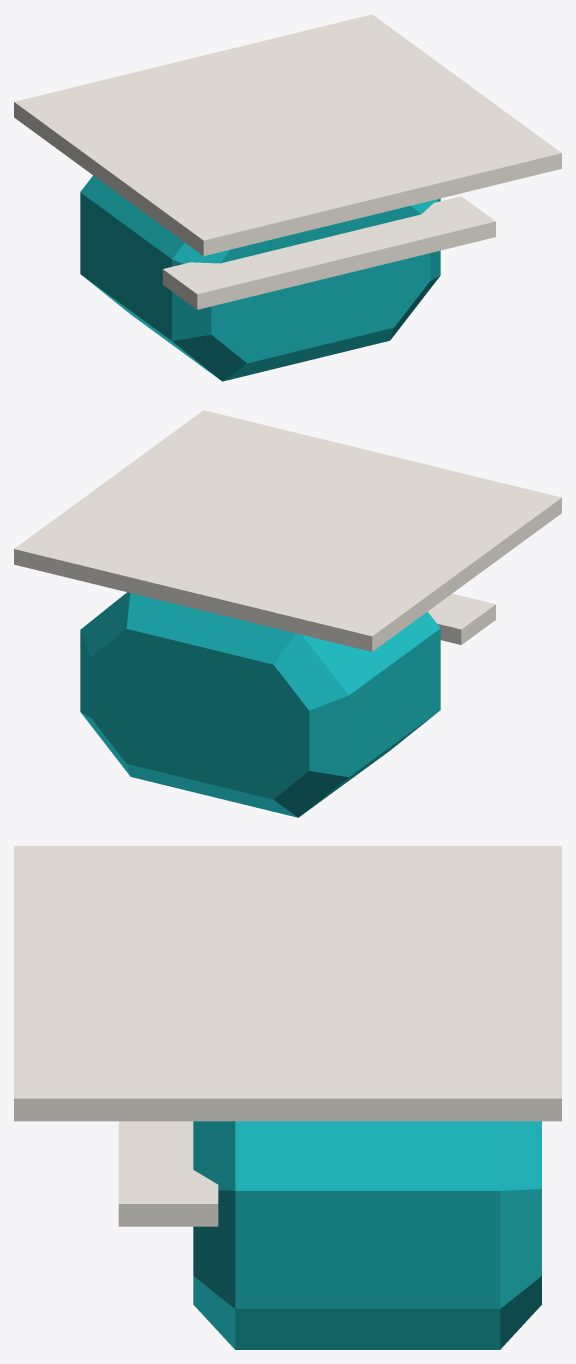
File: kiosk-teal.glb
3 views of the same model, one above another, from view 1: azimuth 30°, elevation 25°; view 2: azimuth 150°, elevation 25°; view 3: azimuth 270°, elevation 25° (orthographic). The views are drawn at different scales.
Visible parts, largest first — view 1: kiosk_canopy, kiosk_body, kiosk_counter; view 2: kiosk_canopy, kiosk_body, kiosk_counter; view 3: kiosk_canopy, kiosk_body, kiosk_counter.
Part boxes in pixels (x1,y1,x2,y2): kiosk_canopy: [14, 14, 561, 255]; kiosk_body: [80, 175, 440, 381]; kiosk_counter: [162, 196, 495, 309]; kiosk_canopy: [14, 410, 561, 651]; kiosk_body: [80, 592, 440, 817]; kiosk_counter: [427, 593, 495, 644]; kiosk_canopy: [14, 846, 561, 1121]; kiosk_body: [193, 1121, 541, 1349]; kiosk_counter: [118, 1121, 218, 1226].
Bounding box in the file's own units: 6 × 3.52 × 5.5.
